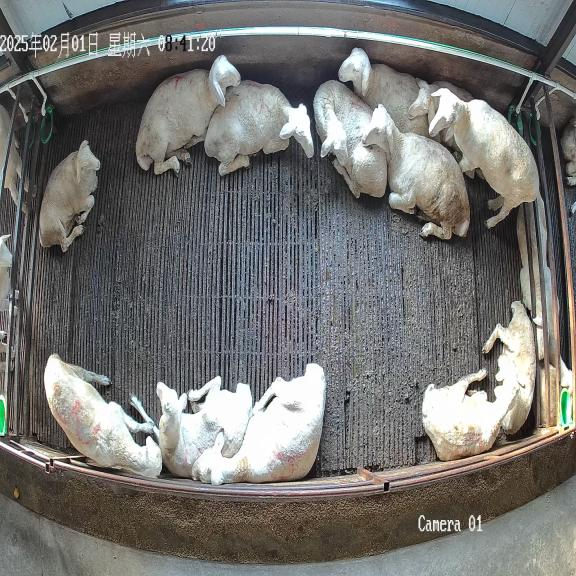lying: (192, 363, 325, 485), (362, 104, 470, 239), (136, 55, 241, 175), (130, 376, 253, 477), (204, 80, 313, 176), (422, 354, 519, 460), (313, 80, 389, 197), (338, 48, 428, 136), (482, 301, 536, 433), (39, 140, 100, 252), (408, 78, 473, 126)
stand: (429, 88, 539, 228), (44, 354, 162, 477)
